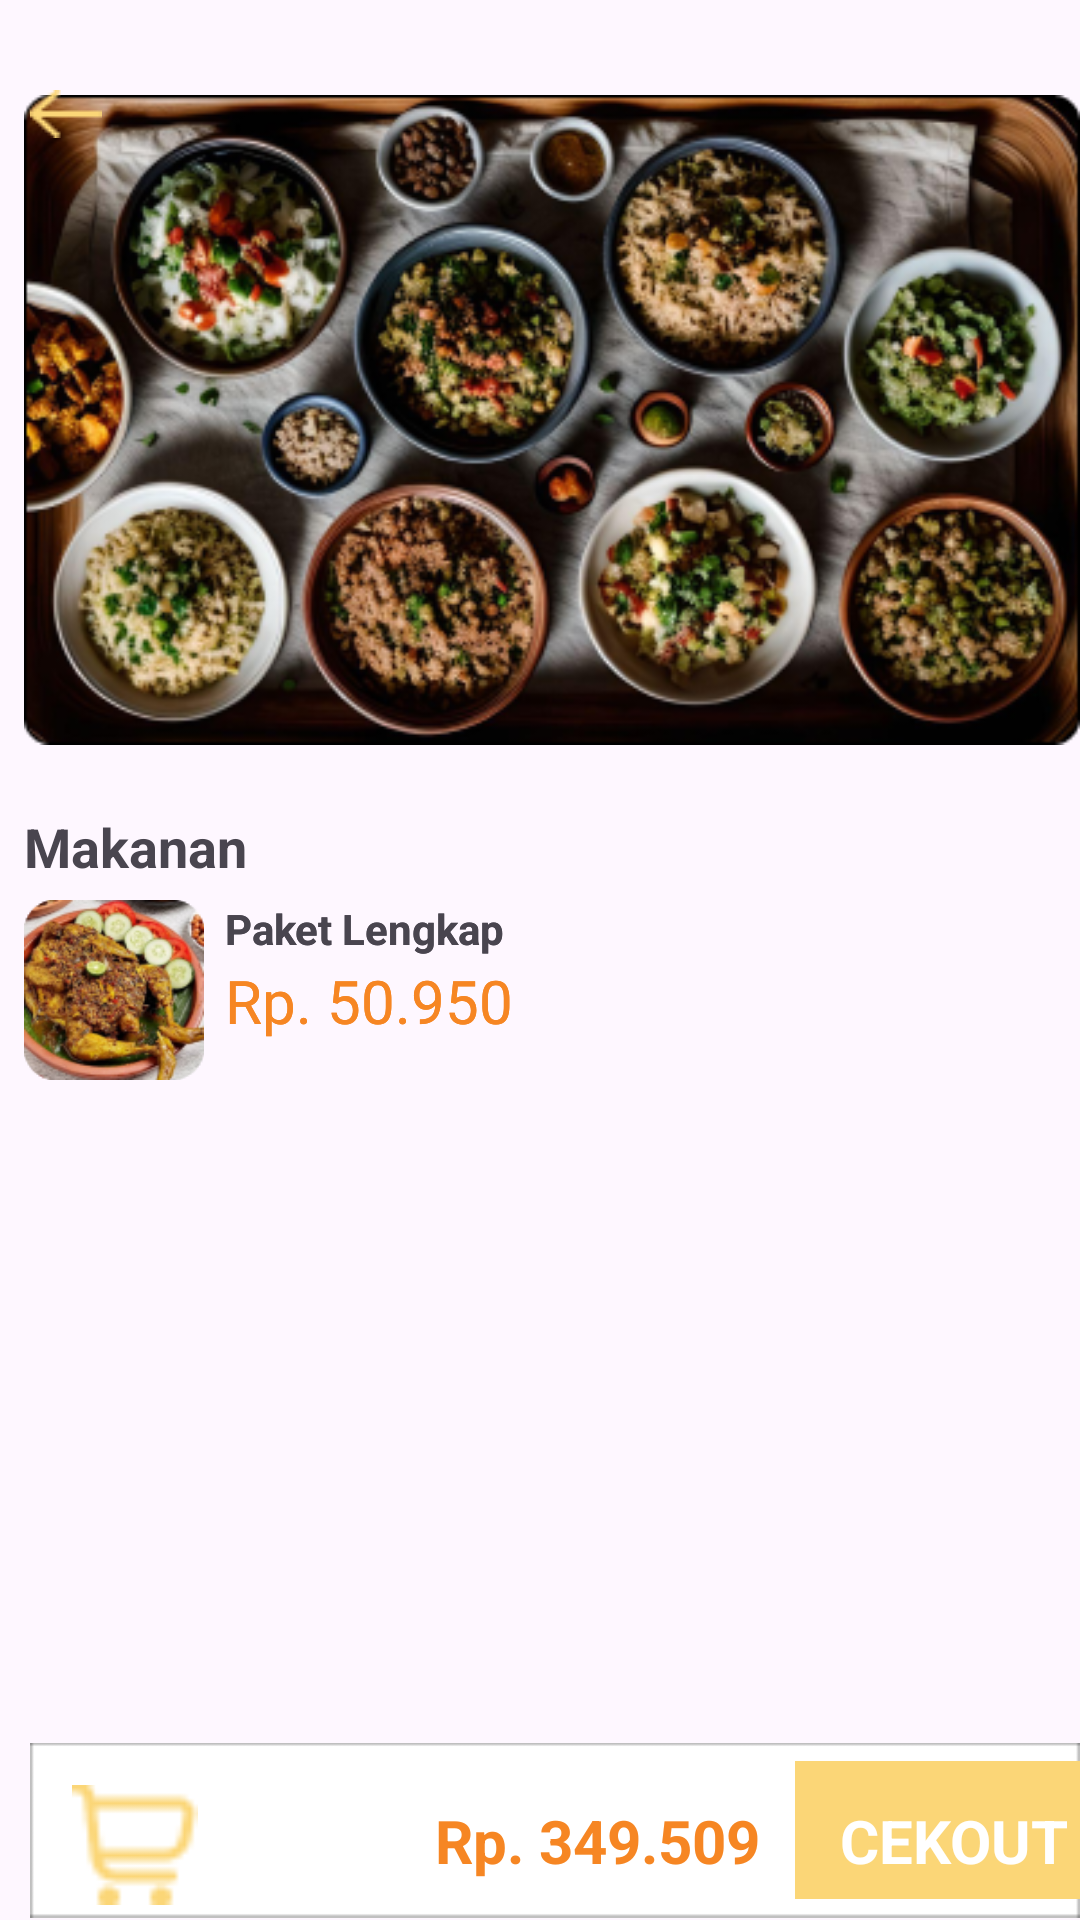

Icons on this 1080x1920 Android screen, each with the point to tap as [x,y]:
arrowy: [66,114]
